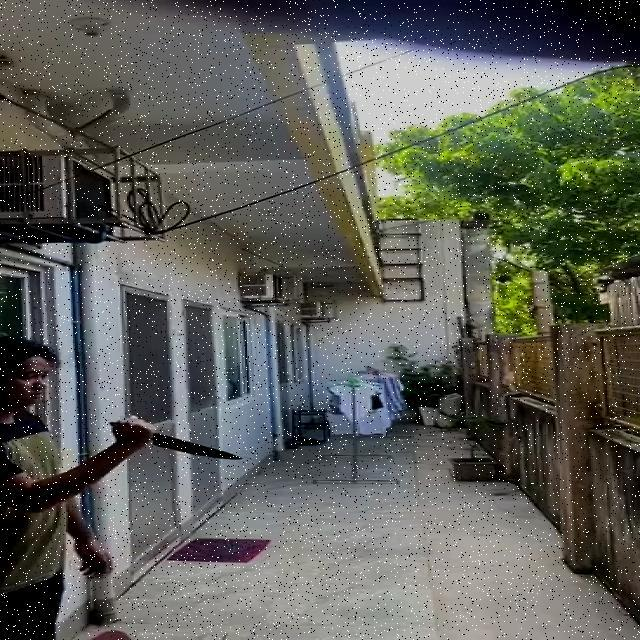knife: (112, 420, 240, 460)
non-violence: (2, 339, 244, 640)
